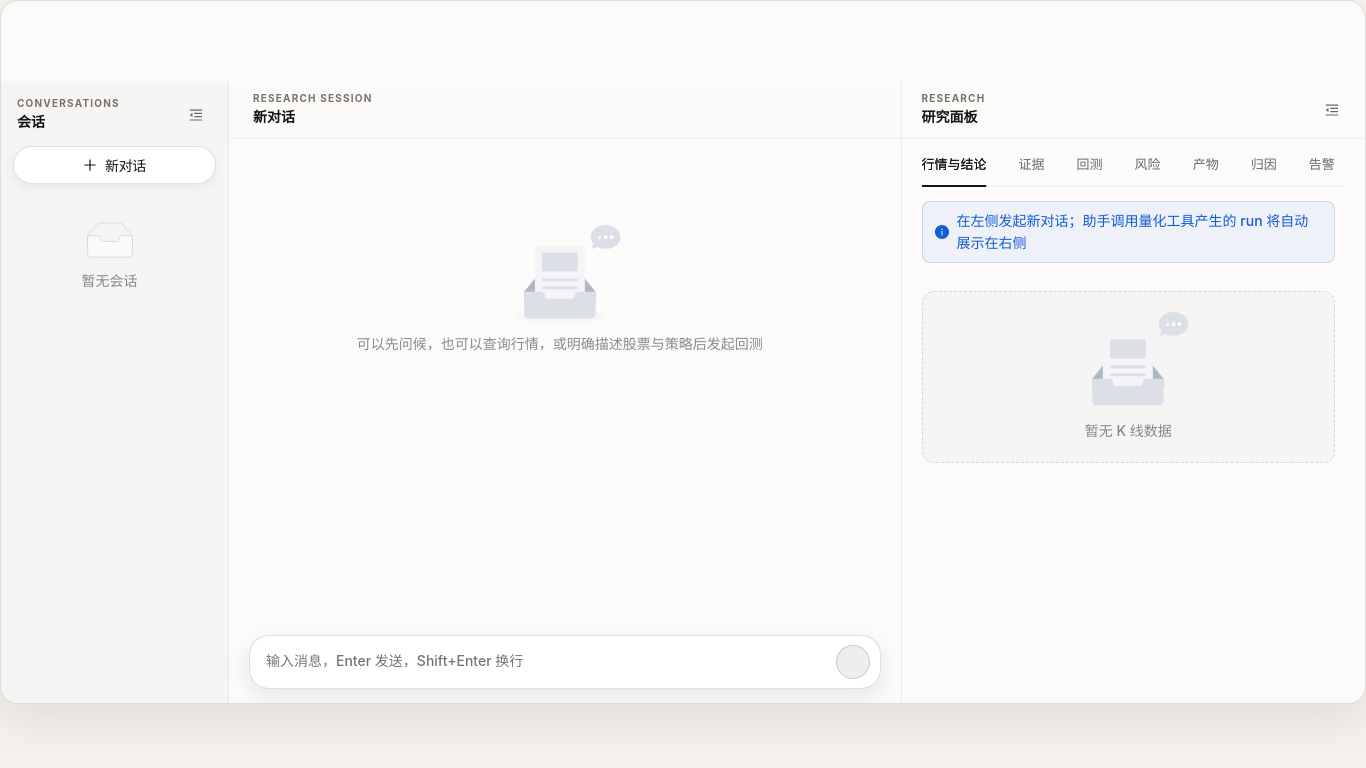
Test case: AgentWorkspace › 研究区页签可切换且不跳页
The width and height of the screenshot is (1366, 768).
Expected: the text "在左侧发起新对话；助手调用量化工具产生的 run 将自动展示在右侧" is shown, [957, 210, 1322, 254]
Click the tab "证据": point(1032, 164) [1019, 154, 1045, 175]
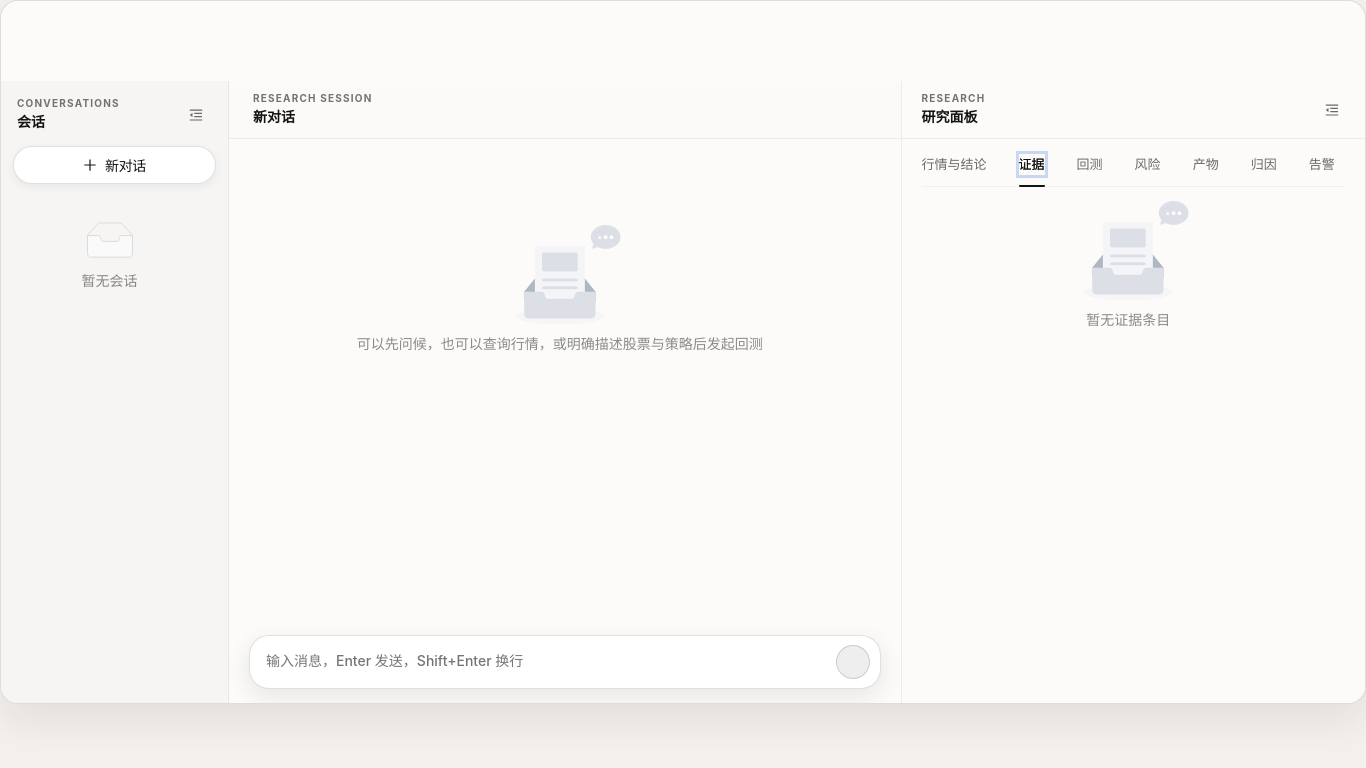
Result: the text "暂无证据条目" is shown at [1086, 311, 1170, 328]
Click the tab "回测": point(1090, 164) [1077, 154, 1103, 175]
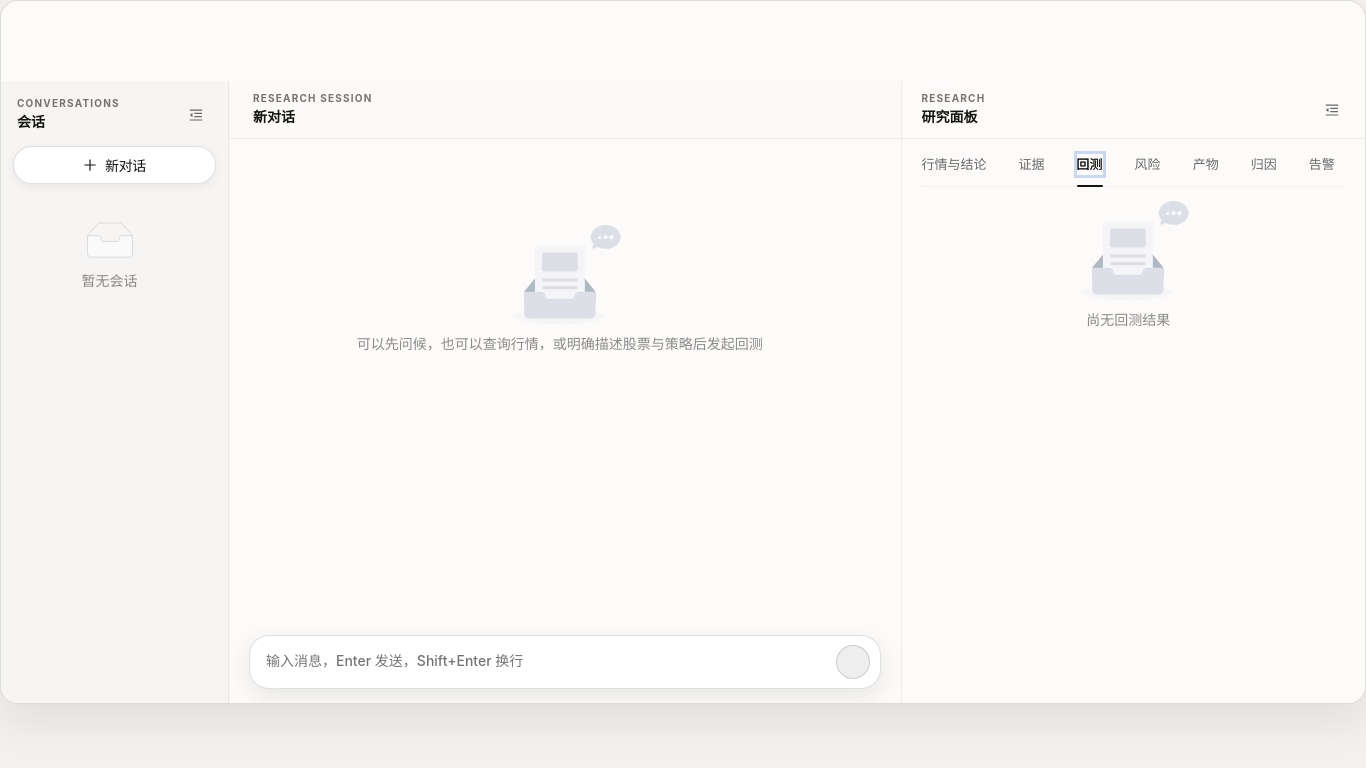
Result: the text "尚无回测结果" is shown at [1086, 311, 1170, 328]
Click the tab "风险": point(1148, 164) [1135, 154, 1161, 175]
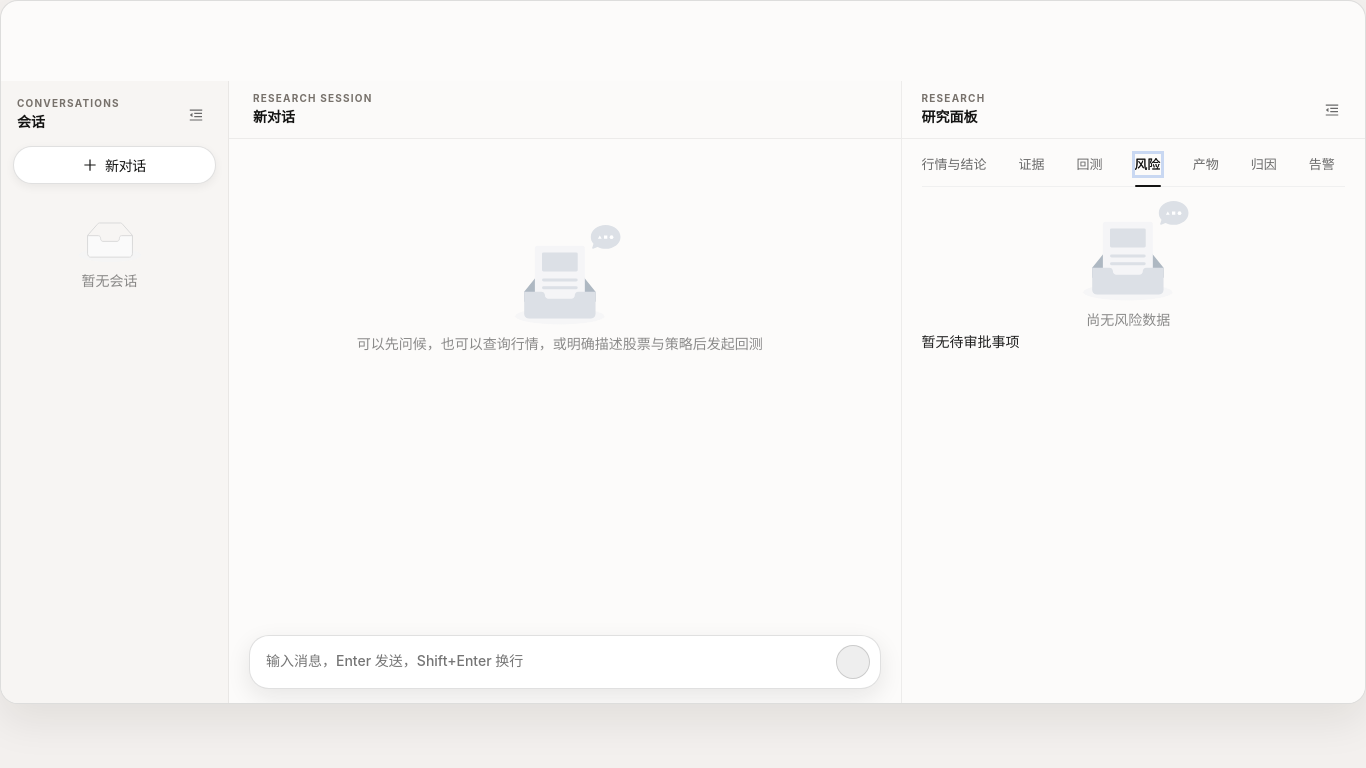
Result: the text "暂无待审批事项" is shown at [922, 333, 1020, 350]
